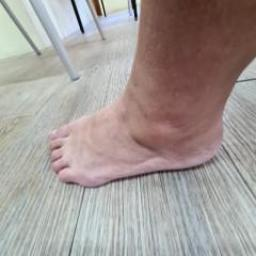Lateral View -Left Foot-: (24, 75, 244, 208)
